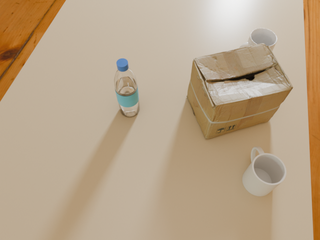bottle: (114, 59, 140, 117)
box: (187, 43, 293, 139)
cup: (242, 147, 286, 196), (239, 28, 277, 51)
